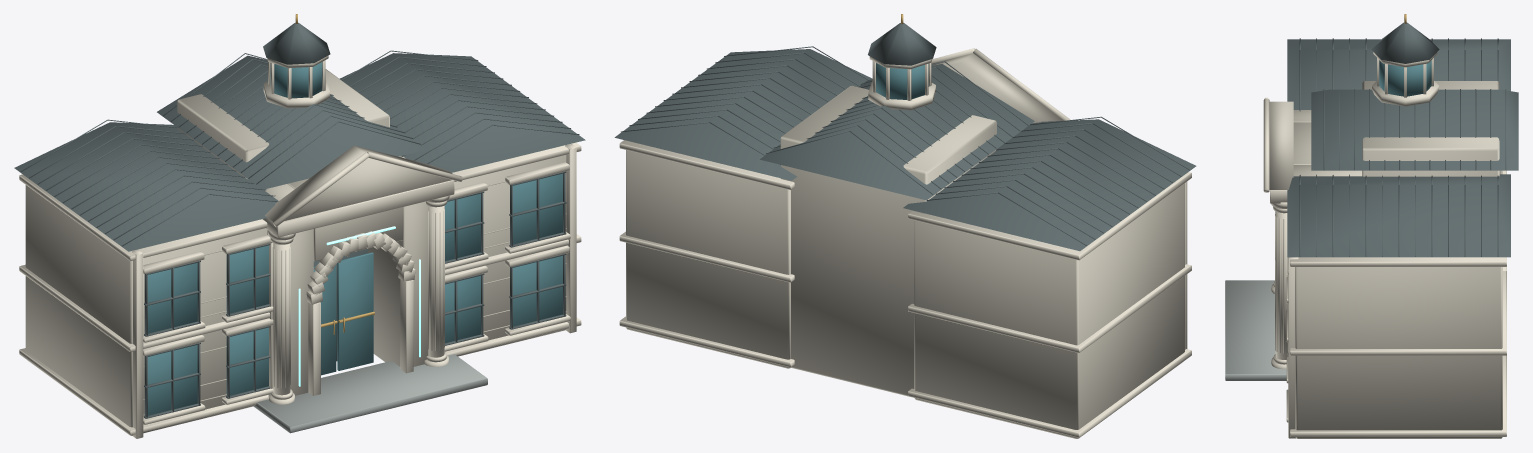
Rendered from est-exterior.glb.
3 renders of one model, left to right at view 1: azimuth 30°, elevation 25°; view 2: azimuth 150°, elevation 25°; view 3: azimuth 270°, elevation 25°, orthographic. The views are drawn at different scales.
Visible parts, largest first — view 1: Laboratory wing, Slate wing roof, Slate wing roof.001, Main slate roof, Entry landing, Entrance pier.001, Stone pediment, Laboratory wing.001, Central hall back, Entry glass door.001, Entrance pier, Entablature (+30 smaller); view 2: Laboratory wing, Central hall back, Laboratory wing.001, Slate wing roof, Slate wing roof.001, Main slate roof, Wing stringcourse.002, Stone pediment, Wing stringcourse.001, Wing stringcourse, Lantern roof, Wing stringcourse.005 (+5 smaller); view 3: Laboratory wing.001, Slate wing roof.001, Main slate roof, Slate wing roof, Entry landing, Central hall back, Stone pediment, Wing stringcourse.005, Wing stringcourse.004, Wing stringcourse.003, Lantern roof, Fluted entrance column.001 (+6 smaller).
Boxes of the visible parts, bbox=[...] form: Laboratory wing: bbox=[25, 185, 267, 435]; Slate wing roof: bbox=[14, 122, 278, 251]; Slate wing roof.001: bbox=[339, 53, 585, 172]; Main slate roof: bbox=[157, 55, 426, 189]; Entry landing: bbox=[253, 354, 487, 433]; Entrance pier.001: bbox=[368, 156, 428, 366]; Stone pediment: bbox=[265, 145, 452, 221]; Laboratory wing.001: bbox=[454, 155, 566, 356]; Central hall back: bbox=[177, 69, 389, 178]; Entry glass door.001: bbox=[337, 252, 373, 370]; Entrance pier: bbox=[264, 184, 313, 395]; Entablature: bbox=[262, 180, 454, 237]; Laboratory wing: bbox=[914, 183, 1184, 438]; Central hall back: bbox=[780, 85, 996, 396]; Laboratory wing.001: bbox=[626, 150, 790, 368]; Slate wing roof: bbox=[903, 119, 1196, 251]; Slate wing roof.001: bbox=[614, 49, 872, 180]; Main slate roof: bbox=[760, 64, 1034, 200]; Wing stringcourse.002: bbox=[908, 172, 1191, 260]; Stone pediment: bbox=[931, 53, 1063, 123]; Wing stringcourse.001: bbox=[908, 264, 1191, 352]; Wing stringcourse: bbox=[908, 349, 1191, 437]; Lantern roof: bbox=[868, 23, 936, 65]; Wing stringcourse.005: bbox=[619, 140, 794, 189]; Laboratory wing.001: bbox=[1295, 267, 1502, 438]; Slate wing roof.001: bbox=[1287, 174, 1510, 257]; Main slate roof: bbox=[1311, 89, 1518, 170]; Slate wing roof: bbox=[1287, 39, 1510, 109]; Entry landing: bbox=[1225, 280, 1286, 380]; Central hall back: bbox=[1362, 81, 1499, 176]; Stone pediment: bbox=[1269, 101, 1293, 189]; Wing stringcourse.005: bbox=[1290, 257, 1506, 266]; Wing stringcourse.004: bbox=[1290, 271, 1506, 355]; Wing stringcourse.003: bbox=[1290, 355, 1506, 436]; Lantern roof: bbox=[1371, 22, 1439, 63]; Fluted entrance column.001: bbox=[1275, 212, 1288, 359].
Bounding box in the file's own units: 16.16 × 11.06 × 9.2.
